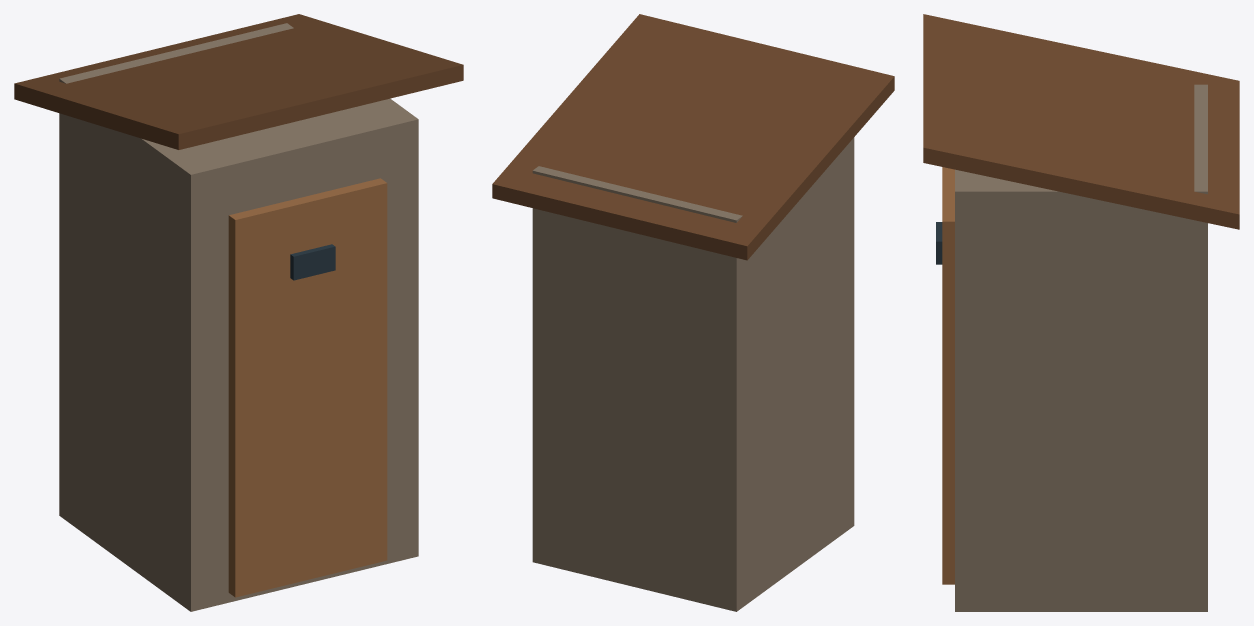
The model's file is SM_Outhouse.fbx.
The picture shows the model from 3 angles, left to right: view 1: azimuth 30°, elevation 25°; view 2: azimuth 150°, elevation 25°; view 3: azimuth 270°, elevation 25°; orthographic projection. The views are drawn at different scales.
Visible parts, largest first — view 1: Outhouse; view 2: Outhouse; view 3: Outhouse.
Part boxes in pixels (x1,y1,x2,y2): Outhouse: (14, 14, 463, 611); Outhouse: (492, 14, 894, 611); Outhouse: (923, 14, 1239, 611).
Bounding box in the file's own units: 150 × 150 × 250.
